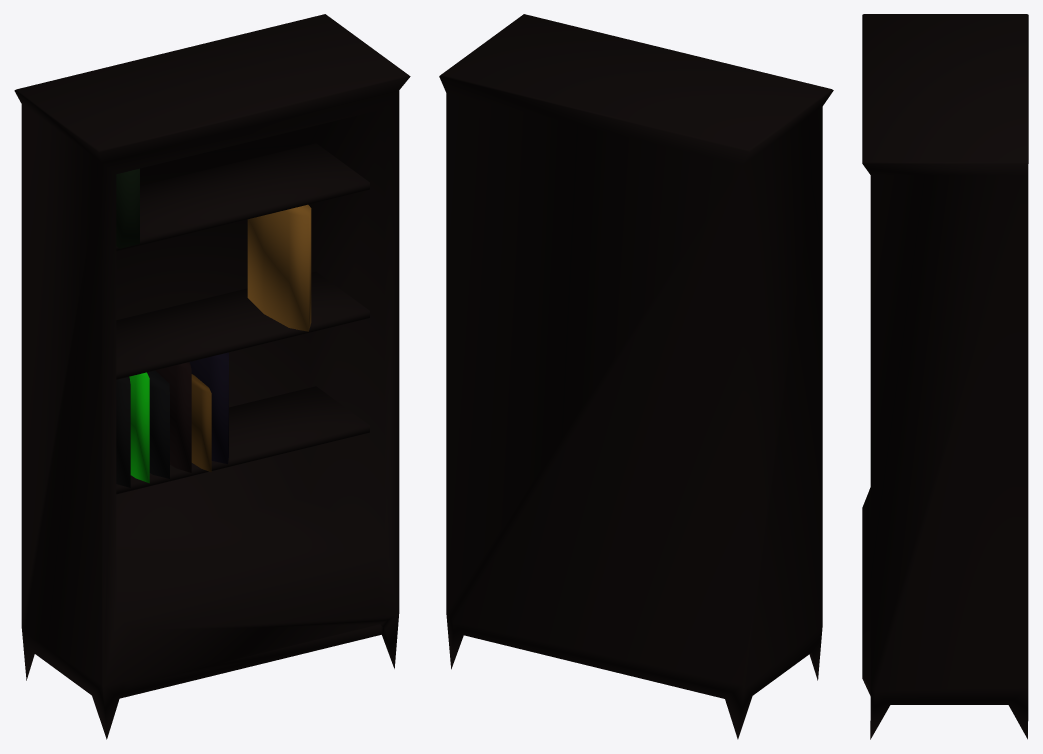
The model's file is bibliotheque.obj.
3 renders of one model, left to right at view 1: azimuth 30°, elevation 25°; view 2: azimuth 150°, elevation 25°; view 3: azimuth 270°, elevation 25°, orthographic.
Parts seen in each view (by area): view 1: Cube_1.003, Cube_1_1.001, Cube_1_2.001, Cube_1_3.001, Cylinder_3, Cylinder_3_5, Cylinder_3_7, Cylinder_3_4, Cylinder_3_3, Cylinder_3_6, Cube_5, Cylinder_3_2; view 2: Cube_1.003; view 3: Cube_1.003.
Boxes of the visible parts, bbox=[...] form: Cube_1.003: bbox=[14, 14, 410, 739]; Cube_1_1.001: bbox=[116, 143, 369, 251]; Cube_1_2.001: bbox=[116, 271, 369, 379]; Cube_1_3.001: bbox=[116, 386, 369, 494]; Cylinder_3: bbox=[247, 204, 311, 331]; Cylinder_3_5: bbox=[155, 362, 191, 472]; Cylinder_3_7: bbox=[189, 352, 228, 464]; Cylinder_3_4: bbox=[147, 370, 169, 478]; Cylinder_3_3: bbox=[129, 372, 149, 483]; Cylinder_3_6: bbox=[191, 374, 211, 472]; Cube_5: bbox=[116, 168, 139, 248]; Cylinder_3_2: bbox=[116, 377, 130, 487]; Cube_1.003: bbox=[439, 14, 833, 739]; Cube_1.003: bbox=[862, 14, 1028, 739].
Size of what is drawn, in the model's own units: 2.17 by 3.96 by 1.02.
